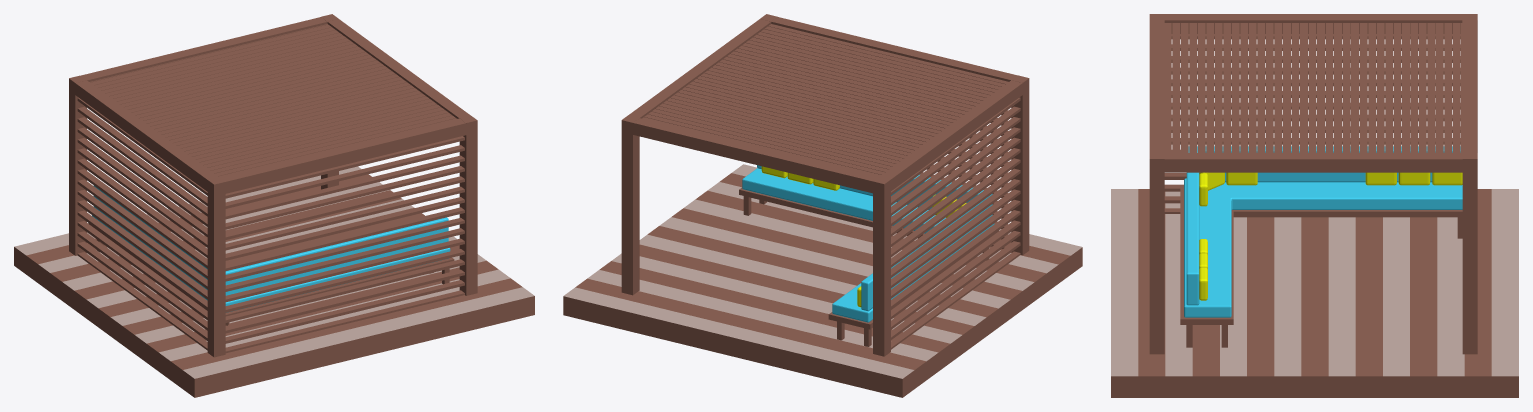
Rendered from Cabana.gltf.
3 renders of one model, left to right at view 1: azimuth 30°, elevation 25°; view 2: azimuth 150°, elevation 25°; view 3: azimuth 270°, elevation 25°, orthographic. The views are drawn at different scales.
Visible parts, largest first — view 1: node-0; view 2: node-0; view 3: node-0.
Boxes of the visible parts, box(x1,y1,x2,y2) form: node-0: box(14, 14, 534, 397); node-0: box(563, 14, 1082, 397); node-0: box(1111, 14, 1518, 397).
Size of the model in its own units: 305184 by 164564 by 280716.
